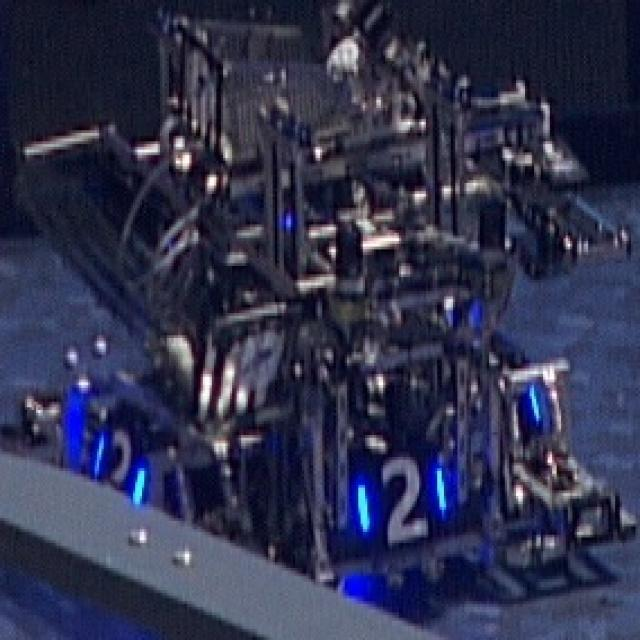B2: (356, 452, 449, 543), (92, 424, 146, 504)
